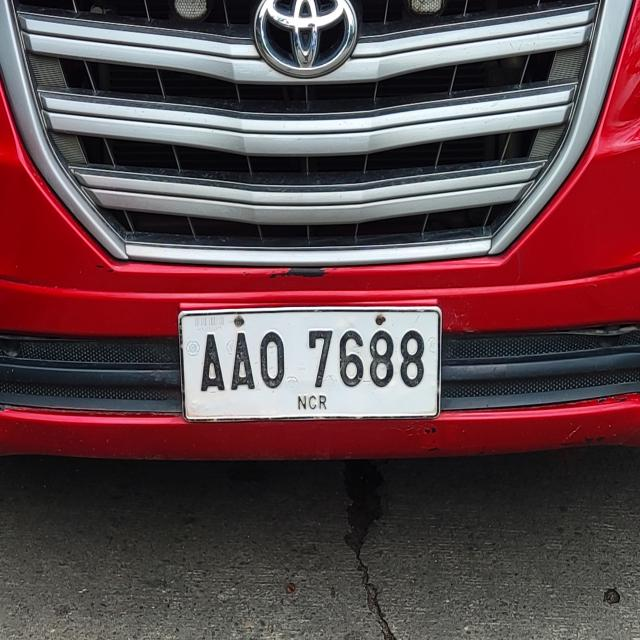plate: (176, 304, 444, 424)
